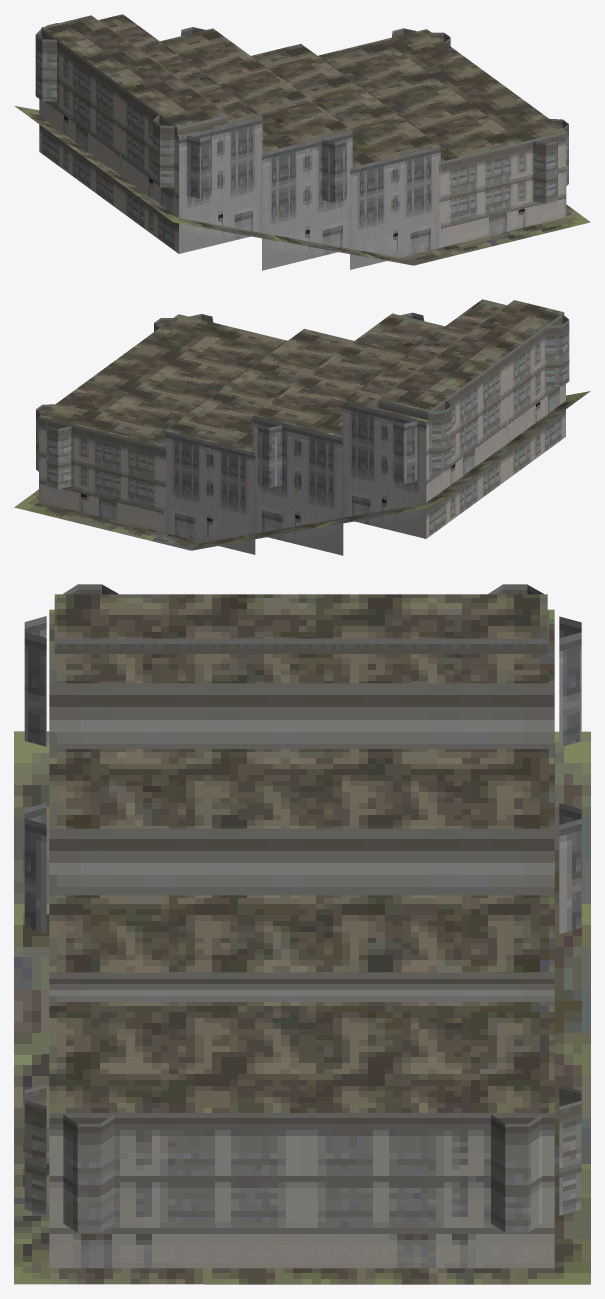
File: loda47.obj
3 views of the same model, one above another, from view 1: azimuth 30°, elevation 25°; view 2: azimuth 150°, elevation 25°; view 3: azimuth 270°, elevation 25° (orthographic). The views are drawn at different scales.
Parts seen in each view (by area): view 1: LODA47; view 2: LODA47; view 3: LODA47.
Boxes of the visible parts, x1,y1,x2,y2 form: LODA47: (15, 14, 590, 270); LODA47: (14, 299, 590, 555); LODA47: (14, 584, 590, 1284).
Size of the model in its own units: 86.42 by 36.6 by 57.12.
5 materials, 5 textured.
